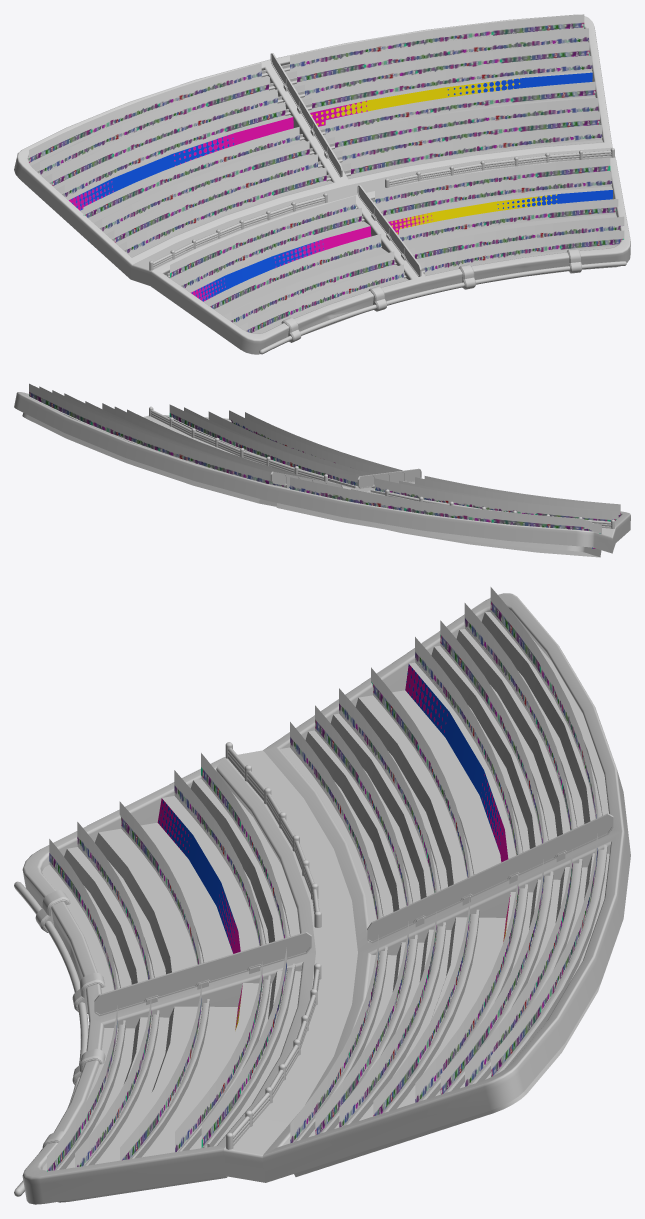
File: stand_002.fbx
3 views of the same model, one above another, from view 1: azimuth 30°, elevation 25°; view 2: azimuth 150°, elevation 25°; view 3: azimuth 270°, elevation 25° (orthographic). The views are drawn at different scales.
Parts seen in each view (by area): view 1: stand_002; view 2: stand_002; view 3: stand_002.
Boxes of the visible parts, x1=… form: stand_002: x1=14, y1=14, x2=630, y2=354; stand_002: x1=14, y1=383, x2=630, y2=557; stand_002: x1=14, y1=587, x2=630, y2=1204.
Size of the model in its own units: 23595 by 12617 by 5296.
